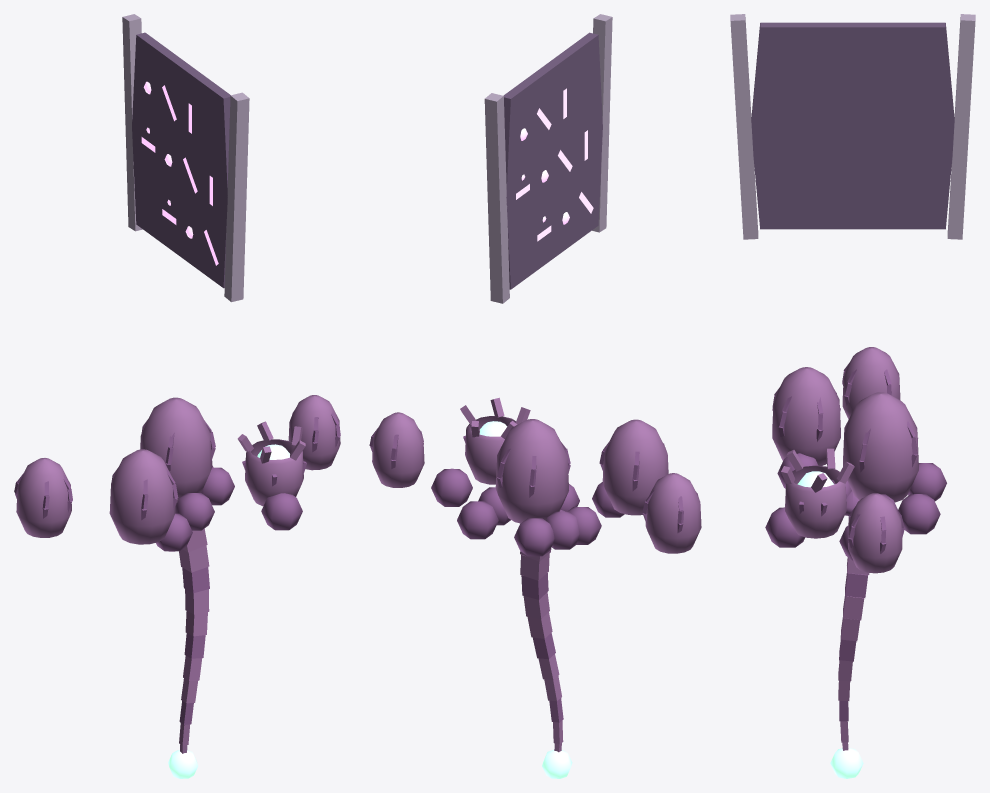
Rendered from ship_belly.glb.
3 views of the same model, side by side, from view 1: azimuth 30°, elevation 25°; view 2: azimuth 150°, elevation 25°; view 3: azimuth 270°, elevation 25° (orthographic). The views are drawn at different scales.
Visible parts, largest first — view 1: mb_glyph_mesh, mb_eggs_mesh, mb_tendril_mesh; view 2: mb_eggs_mesh, mb_glyph_mesh, mb_tendril_mesh; view 3: mb_glyph_mesh, mb_eggs_mesh, mb_tendril_mesh.
Boxes of the visible parts, box(x1,y1,x2,y2) form: mb_glyph_mesh: box(122, 14, 249, 302); mb_eggs_mesh: box(14, 395, 340, 551); mb_tendril_mesh: box(168, 503, 209, 778); mb_eggs_mesh: box(369, 397, 701, 556); mb_glyph_mesh: box(484, 14, 612, 303); mb_tendril_mesh: box(520, 510, 572, 778); mb_glyph_mesh: box(730, 14, 975, 239); mb_eggs_mesh: box(765, 347, 946, 573); mb_tendril_mesh: box(830, 490, 869, 778).
Size of the model in its own units: 2.12 by 4.54 by 1.32.
